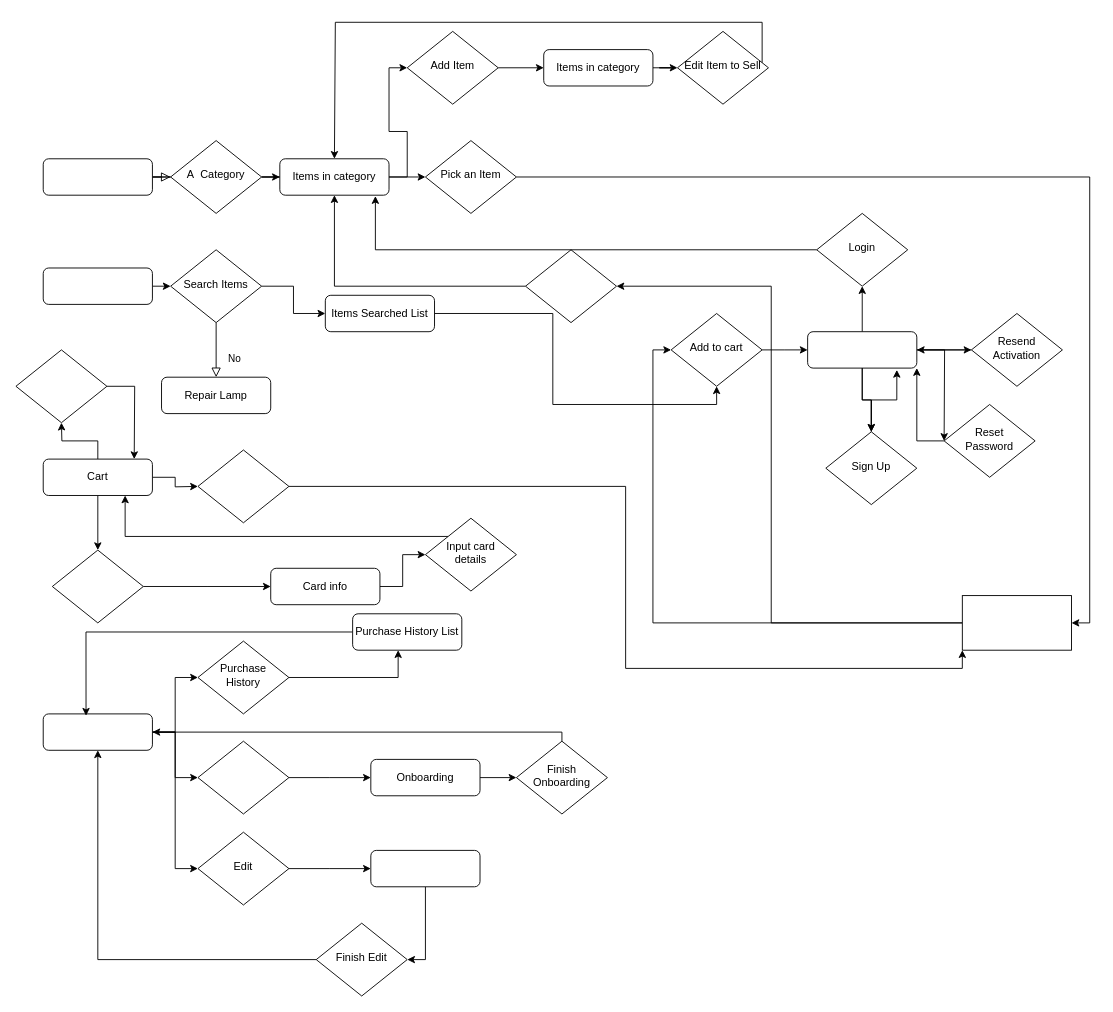
The diagram is 1113 pixels wide and 1012 high, and some of its shapes have lost their labels. Each missing label, with the box of its shape:
Check Out: (51, 549, 143, 623)
Display Item details: (961, 595, 1072, 650)
Edit Profile: (370, 849, 480, 887)
Finish Registration: (197, 740, 289, 814)
Go back to items list: (525, 249, 617, 323)
List of Category: (42, 158, 152, 195)
Login Screen: (807, 331, 917, 368)
Pick Item: (197, 449, 289, 523)
Profile: (42, 713, 152, 750)
Remove Item: (15, 349, 107, 423)
Search: (42, 267, 152, 304)
